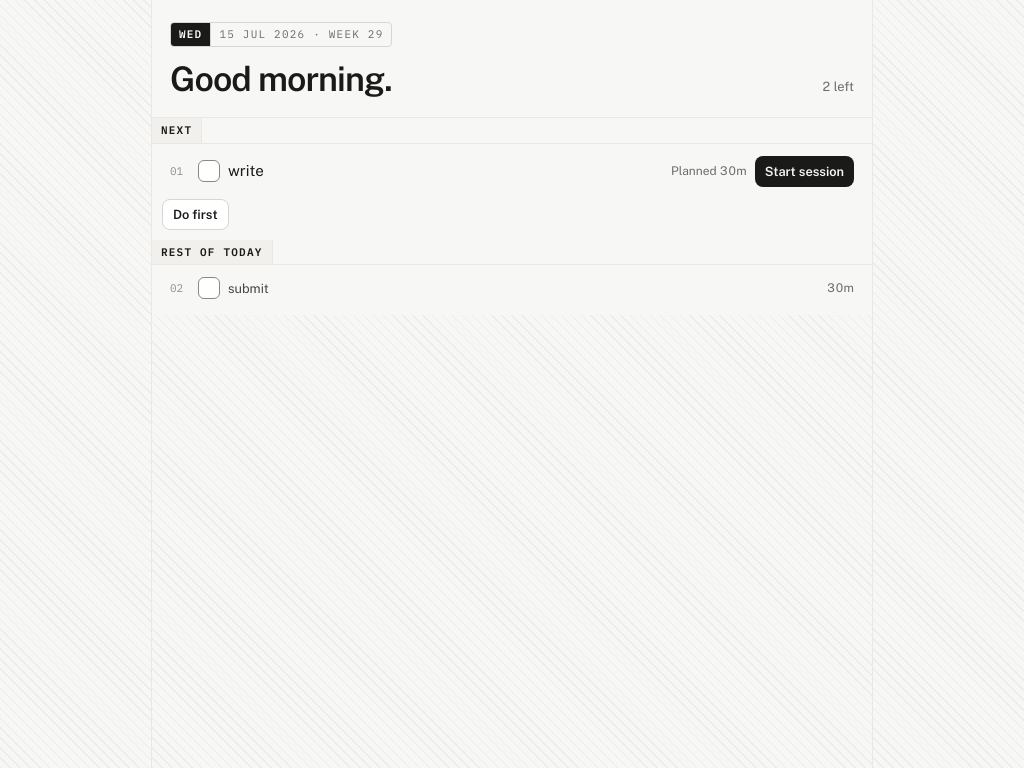
Test: Do first › inserts before the primary and the new step leads the page
Click the button "Do first". click: {"x": 195, "y": 214}
box: [162,199,229,230]
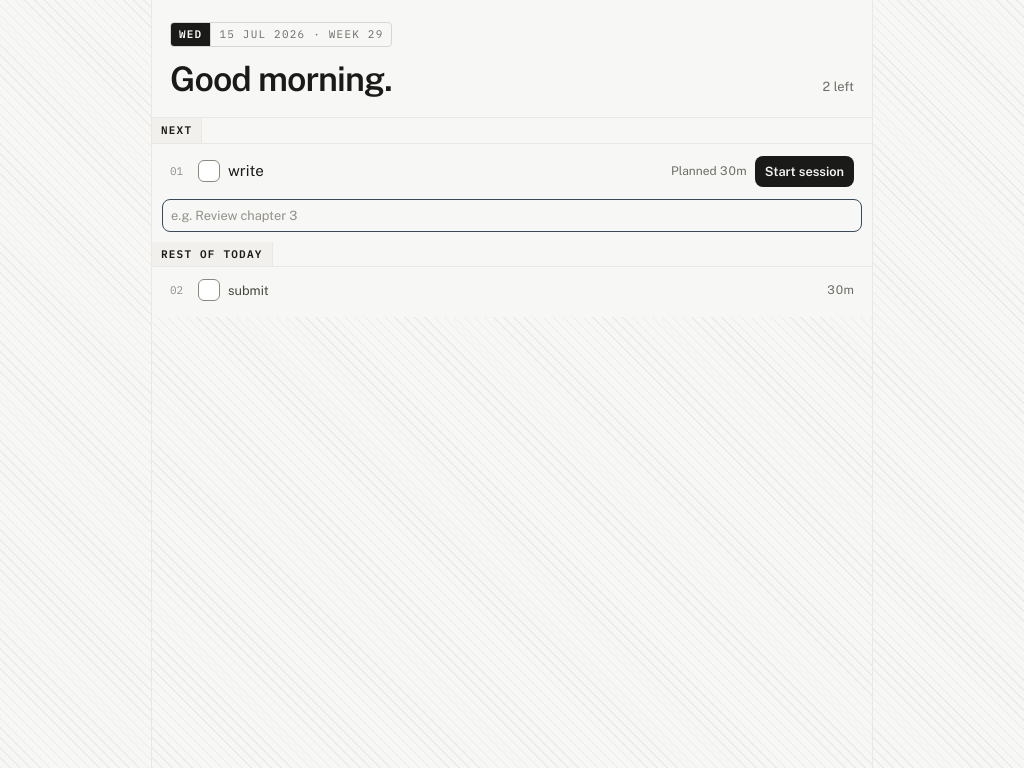
Type "Review notes" into the field named "Do this first". click: {"x": 512, "y": 215}
box: [162,199,862,232]
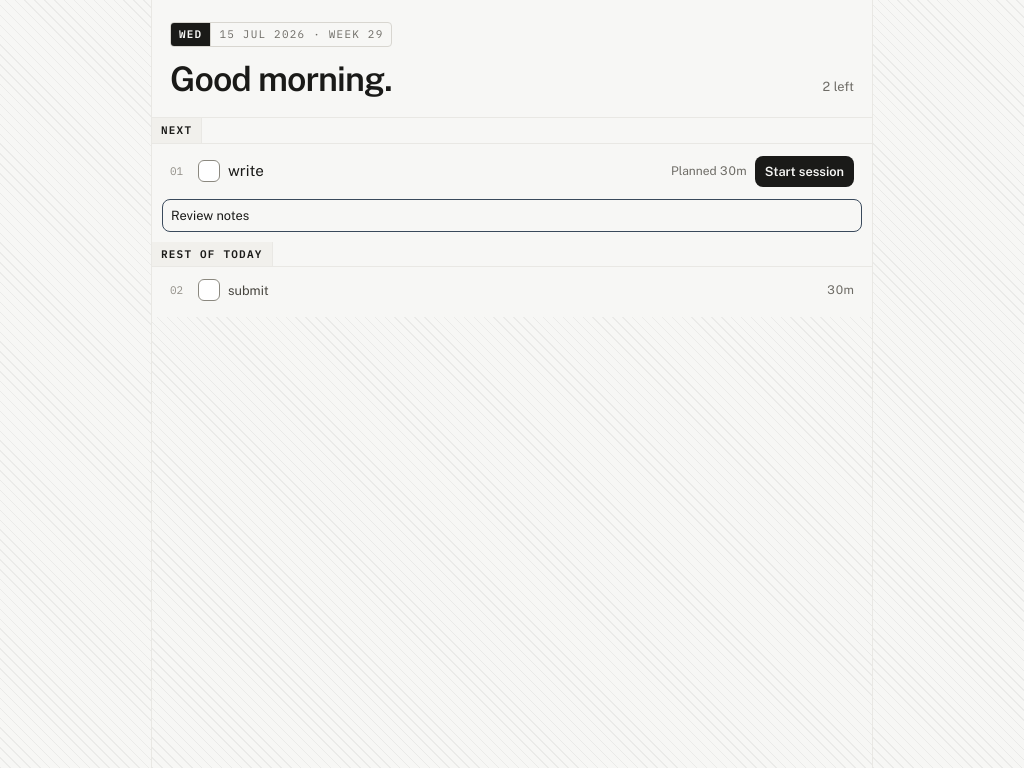
Press Enter in the field named "Do this first", box [162,199,862,232]
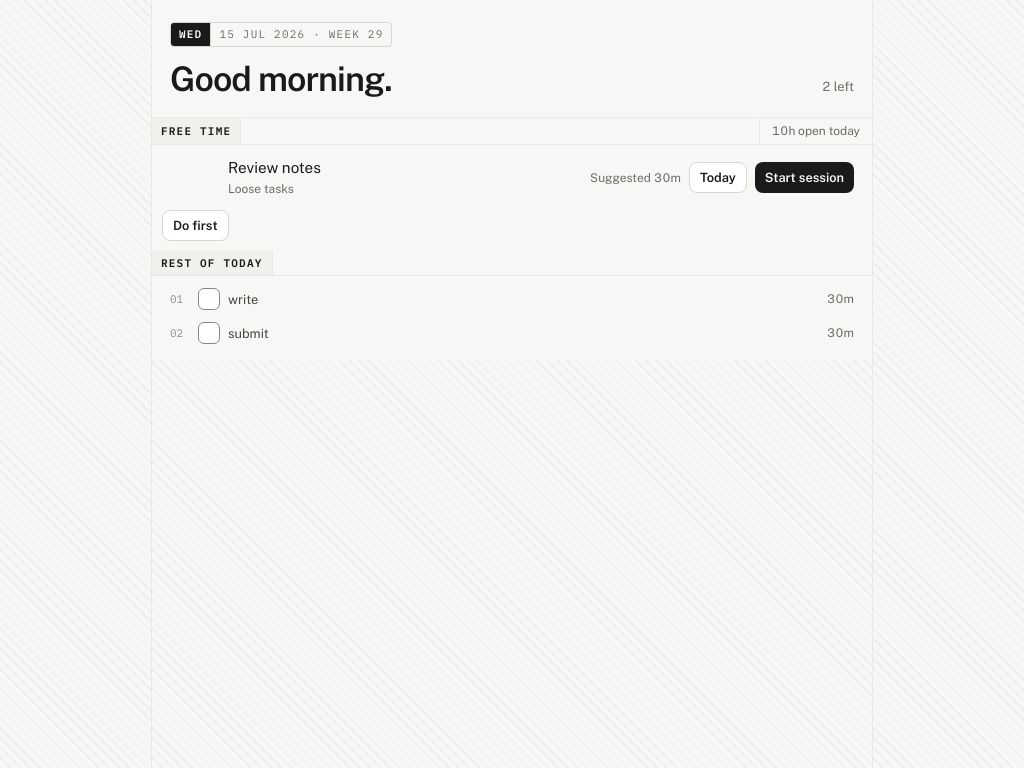
expect the text "Review notes" is shown: met, box [228,159,321,176]
